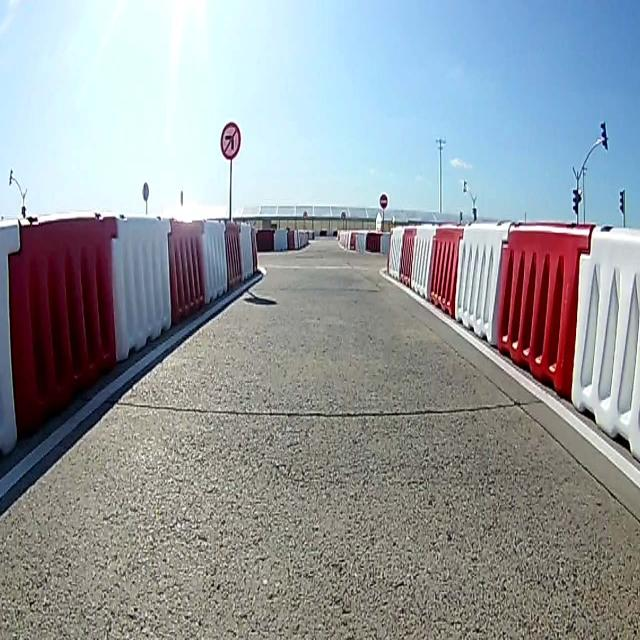girisyok: (378, 192, 388, 209)
soladonulmez: (220, 117, 240, 160)
